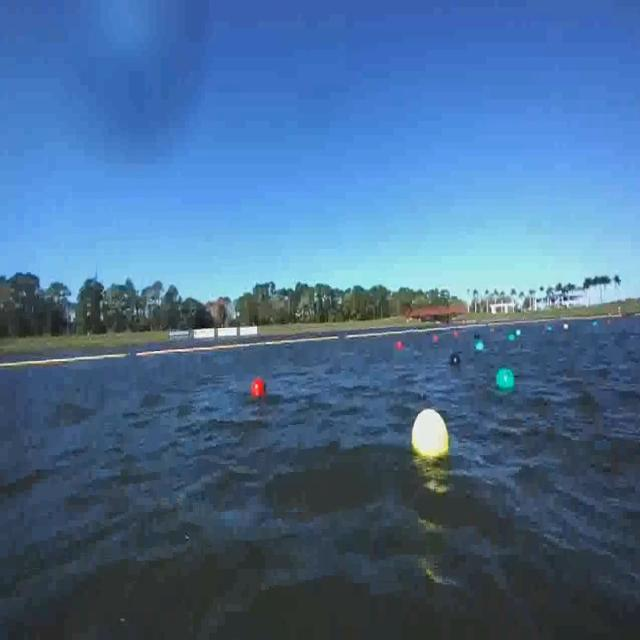black-buoy: (450, 352, 462, 367)
green-buoy: (496, 368, 515, 390)
red-buoy: (254, 376, 268, 397)
yellow-buoy: (410, 410, 450, 463)
